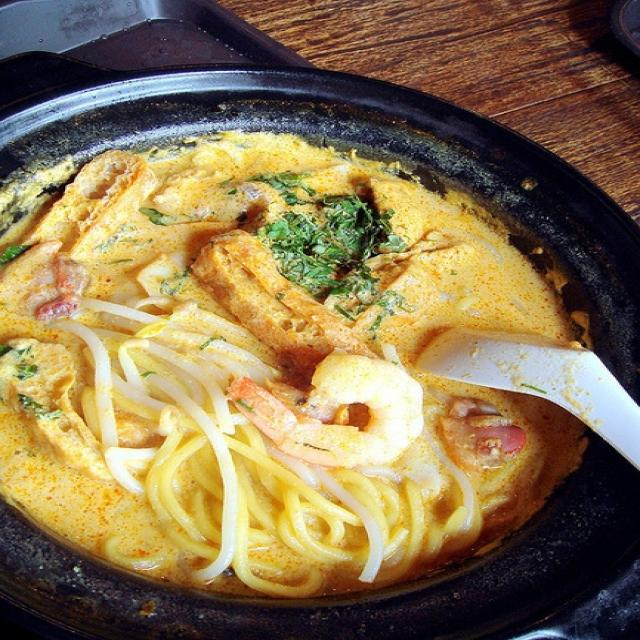面条主食: (6, 40, 619, 616)
